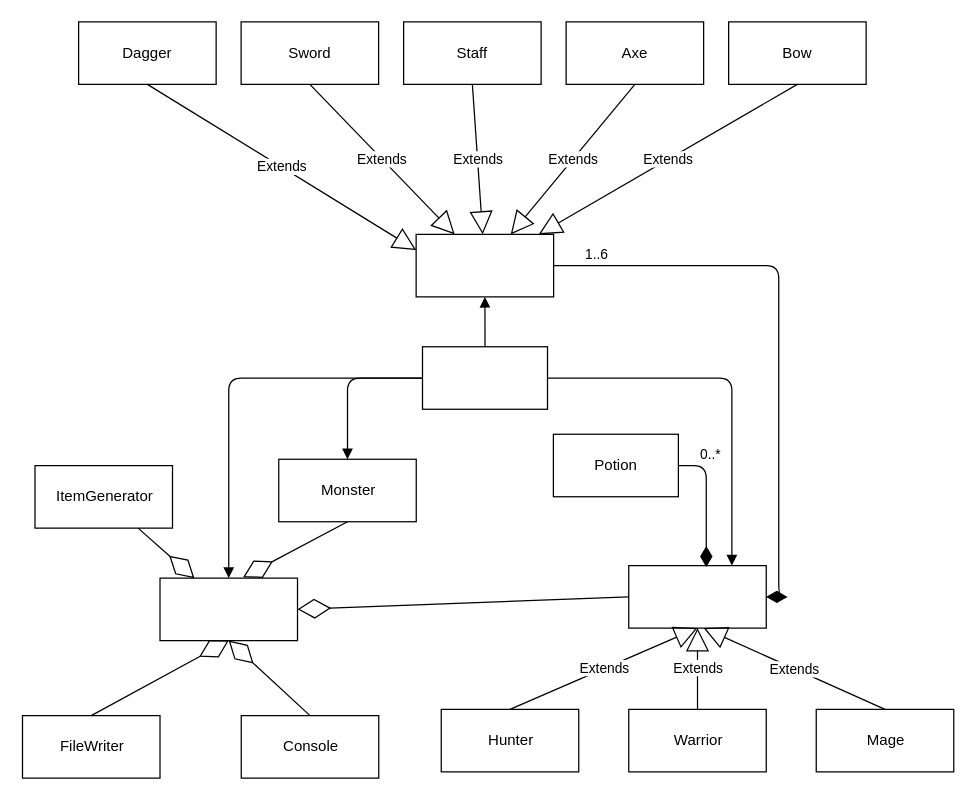
This 975x800 diagram has some shape labels left out. Here are the shapes that lost their labels. From the top down, the centre of each, then its label:
At [484,265]: "Weapon".
At [484,377]: "Random".
At [228,609]: "Engine".
At [697,596]: "Player".
